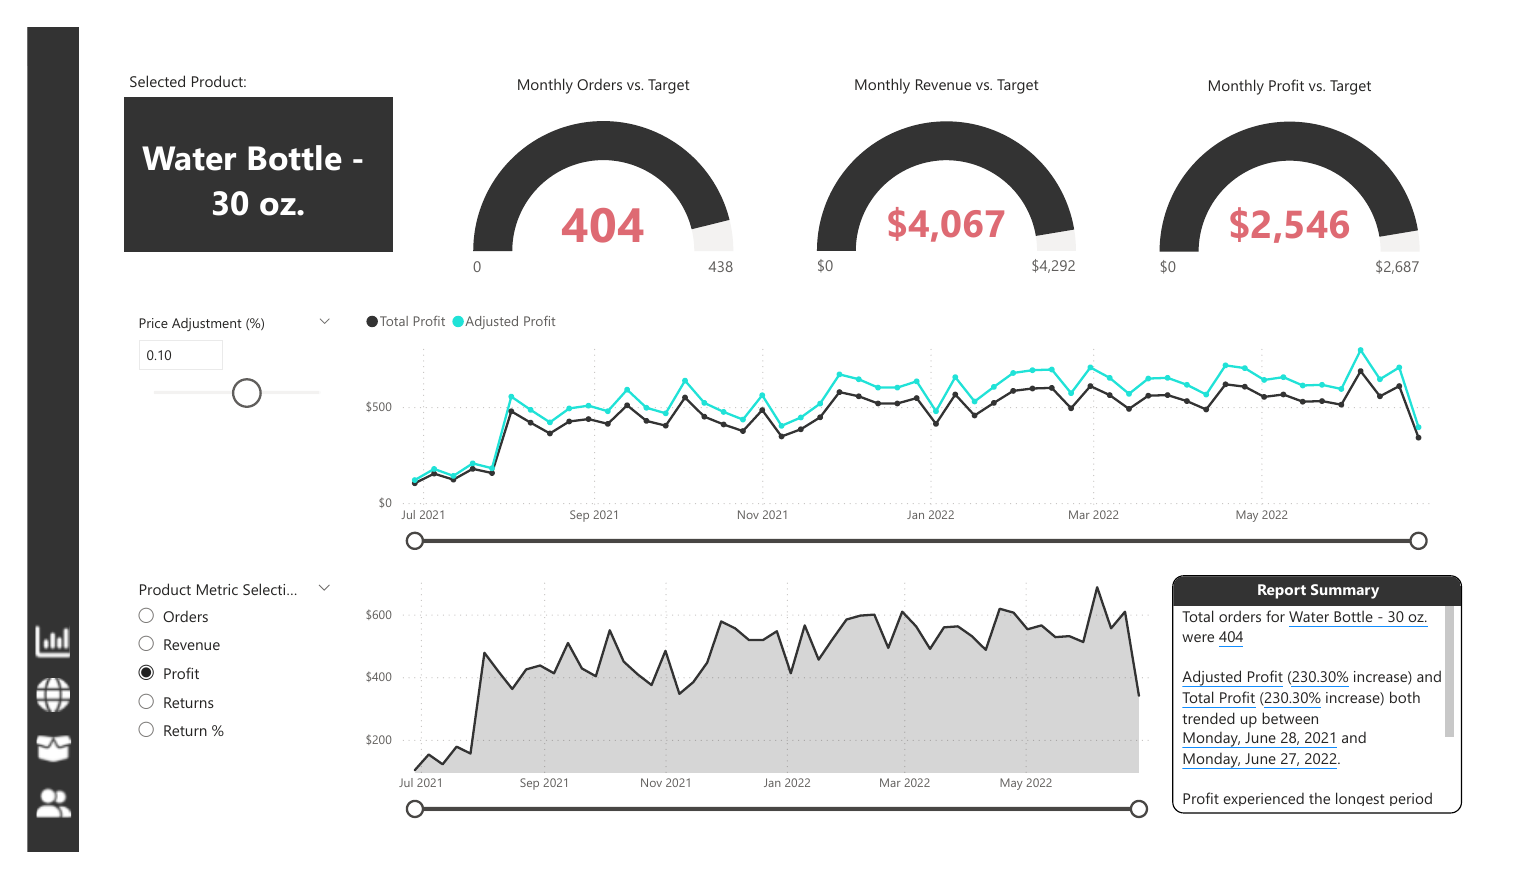

What the dashboard file says about the page in this screenshot:
{"tool":"powerbi","page":{"name":"Product Detail","canvas":[1280,720],"ordinal":2},"visuals":[{"type":"shape","box":[0,0,45,720],"z":0},{"type":"actionButton","box":[2.5,516.7,45.6,37.8],"z":0,"group":"g1"},{"type":"gauge","title":"Monthly Orders vs. Target","fields":{"Y":["Measure Table.Total Orders"],"MaxValue":["Measure Table.Order Target"]},"box":[383.7,41.5,236.9,203.7],"z":1000},{"type":"actionButton","box":[3.3,563.4,45.6,37.8],"z":1000,"group":"g1"},{"type":"gauge","title":"Monthly Revenue vs. Target","fields":{"Y":["Measure Table.Total Revenue"],"MaxValue":["Measure Table.Revenue Target"]},"box":[683.5,41.5,236.9,203.7],"z":2000},{"type":"actionButton","box":[3.3,611.1,45.6,37.8],"z":2000,"group":"g1"},{"type":"gauge","title":"Monthly Profit vs. Target","fields":{"Y":["Measure Table.Total Profit"],"MaxValue":["Measure Table.Profit Target"]},"box":[983.4,41.8,236.2,203.5],"z":3000},{"type":"actionButton","box":[3.3,657.8,45.6,37.8],"z":3000,"group":"g1"},{"type":"lineChart","title":"Profit Trending","fields":{"Category":["Calendar Lookup.Date Hierarchy.Year","Calendar Lookup.Date Hierarchy.Start of Month","Calendar Lookup.Date Hierarchy.Start of Week","Calendar Lookup.Date Hierarchy.Date"],"Y":["Measure Table.Total Profit","Measure Table.Adjusted Profit"]},"box":[290.5,237.4,952.8,221.5],"z":4000},{"type":"areaChart","title":"Return Trending","fields":{"Y":["Measure Table.Total Profit"],"Category":["Calendar Lookup.Date Hierarchy.Year","Calendar Lookup.Date Hierarchy.Start of Month","Calendar Lookup.Date Hierarchy.Start of Week","Calendar Lookup.Date Hierarchy.Date"]},"box":[290.5,471.3,708.7,221.5],"z":5000},{"type":"card","fields":{"Values":["Min(Product Lookup.ProductName)"]},"box":[83.6,61,235.1,134.5],"z":6000},{"type":"textbox","box":[83.6,32.8,136.8,36.2],"z":7000},{"type":"group","id":"g1","title":"Navigation Buttons","box":[2.5,516.7,46.4,178.9],"z":8000},{"type":"slicer","fields":{"Values":["Price Adjustment (%).Price Adjustment (%)"]},"box":[83.6,245.3,193.3,123.2],"z":9000},{"type":"slicer","fields":{"Values":["Product Metric Selection.Product Metric Selection"]},"box":[83.6,477,193.3,180.8],"z":10000},{"type":"textbox","title":"Report Summary","box":[999.2,478.1,253.2,208],"z":11000}]}

Visuals, with their boxes on the page's 1280x720 design canvas (x1, y1, x2, y2). These are canvas units, not pixel positions in the 1522x880 screenshot, which may show the page scaled, cropped or inside an application window:
shape: {"left": 0, "top": 0, "right": 45, "bottom": 720}
actionButton: {"left": 2, "top": 517, "right": 48, "bottom": 554}
"Monthly Orders vs. Target" gauge: {"left": 384, "top": 42, "right": 621, "bottom": 245}
actionButton: {"left": 3, "top": 563, "right": 49, "bottom": 601}
"Monthly Revenue vs. Target" gauge: {"left": 684, "top": 42, "right": 920, "bottom": 245}
actionButton: {"left": 3, "top": 611, "right": 49, "bottom": 649}
"Monthly Profit vs. Target" gauge: {"left": 983, "top": 42, "right": 1220, "bottom": 245}
actionButton: {"left": 3, "top": 658, "right": 49, "bottom": 696}
"Profit Trending" lineChart: {"left": 290, "top": 237, "right": 1243, "bottom": 459}
"Return Trending" areaChart: {"left": 290, "top": 471, "right": 999, "bottom": 693}
card - Min(Product Lookup.ProductName): {"left": 84, "top": 61, "right": 319, "bottom": 196}
textbox: {"left": 84, "top": 33, "right": 220, "bottom": 69}
"Navigation Buttons" group: {"left": 2, "top": 517, "right": 49, "bottom": 696}
slicer - Price Adjustment (%).Price Adjustment (%): {"left": 84, "top": 245, "right": 277, "bottom": 368}
slicer - Product Metric Selection.Product Metric Selection: {"left": 84, "top": 477, "right": 277, "bottom": 658}
"Report Summary" textbox: {"left": 999, "top": 478, "right": 1252, "bottom": 686}
